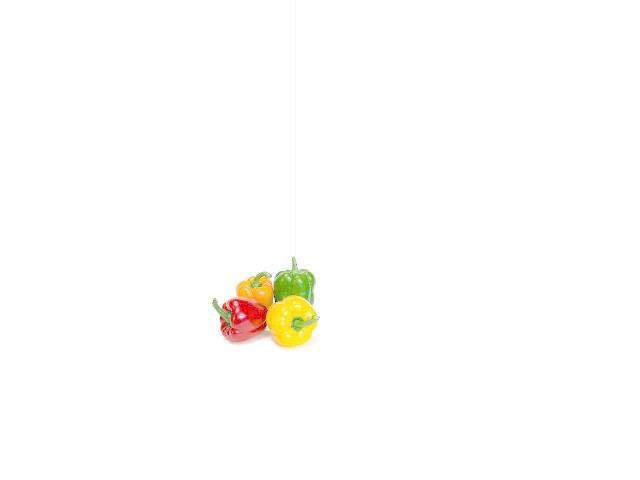bell_pepper: (264, 295, 322, 349)
